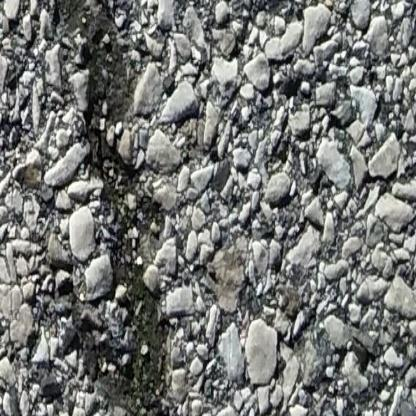Cracks: (49, 0, 181, 416)
